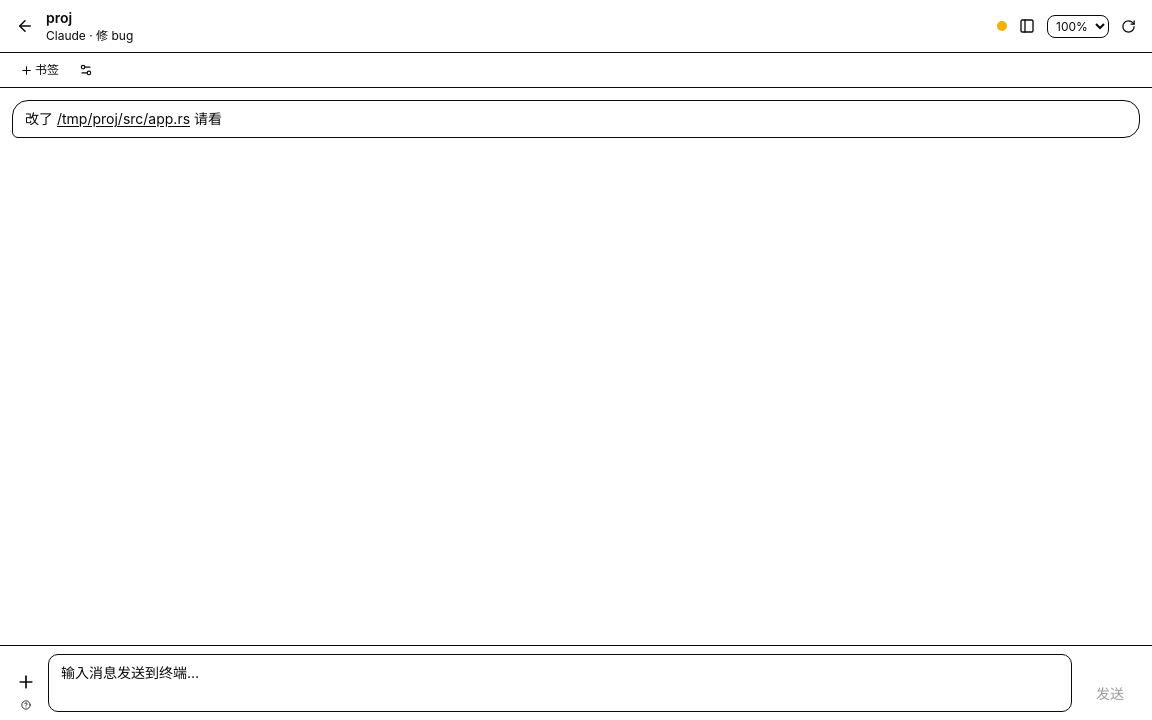
it: SessionDetail：文件链接化与预览联动 › Task 3：从消息正文链接进入预览无返回按钮（来源区分）
Click the button with test id "file-link". click: (123, 119)
box: [57, 109, 190, 129]
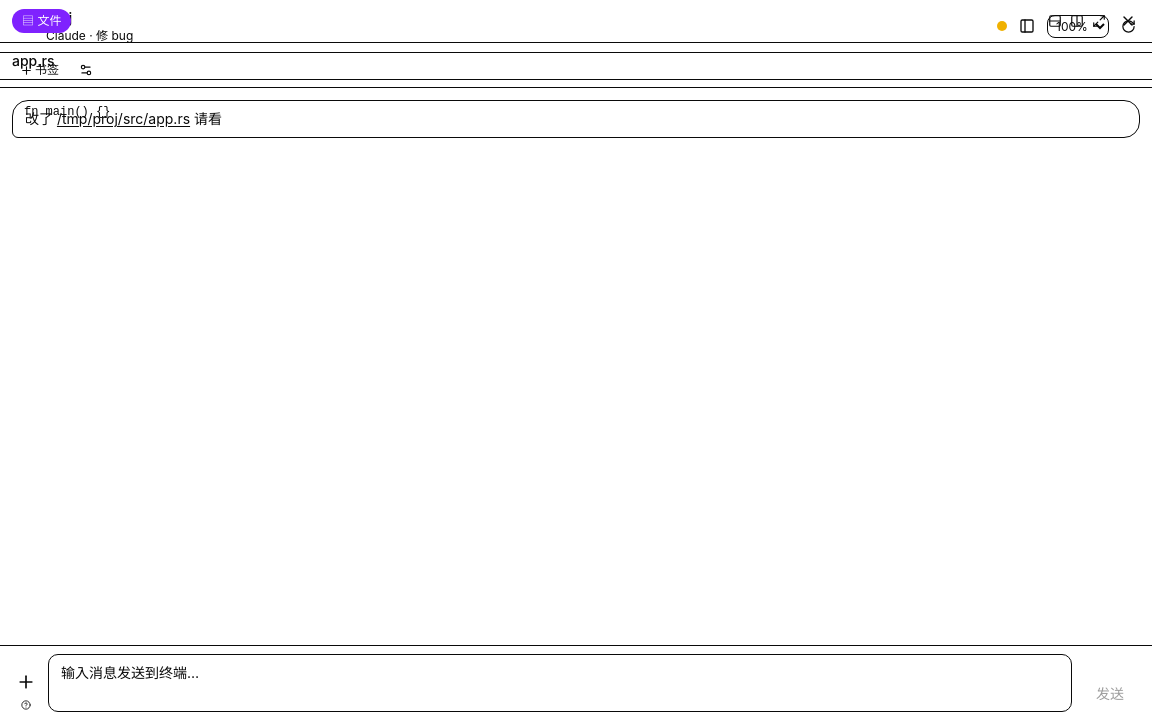
Check: the element with test id "file-preview" is shown, box [0, 43, 1151, 119]
